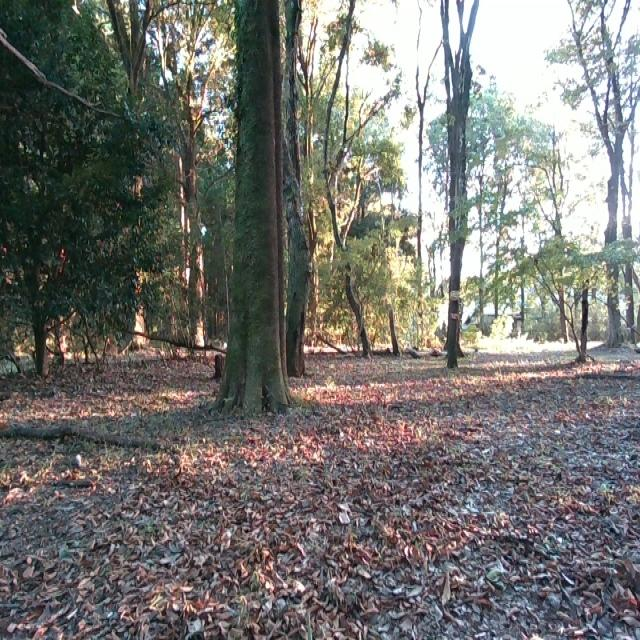tree: (209, 0, 296, 416), (584, 0, 638, 354), (326, 0, 376, 355), (441, 0, 486, 371), (280, 0, 322, 376), (5, 154, 62, 386), (563, 270, 601, 363)
